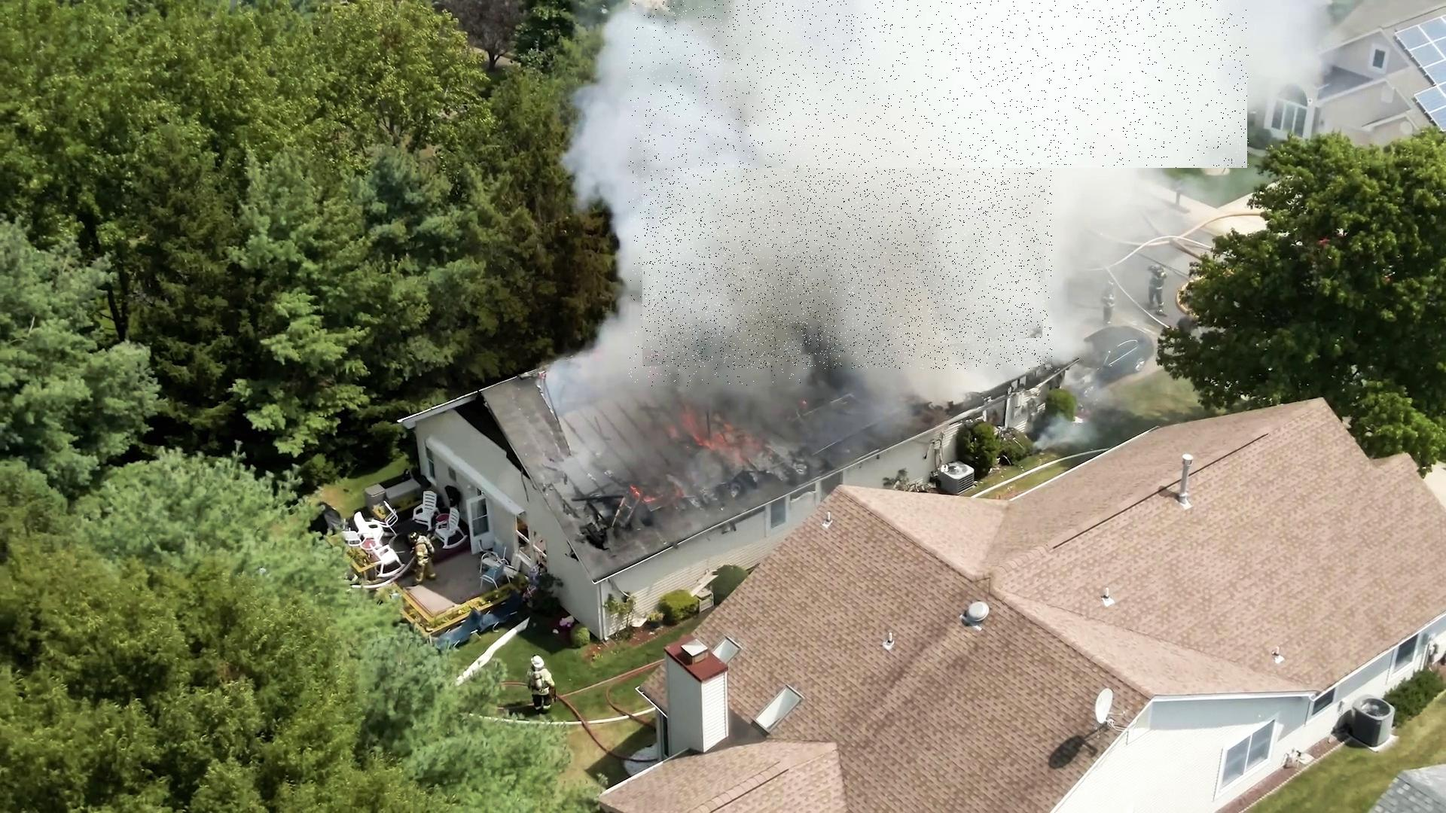smoke: (644, 107, 1052, 369), (658, 0, 1249, 168), (629, 0, 802, 386)
